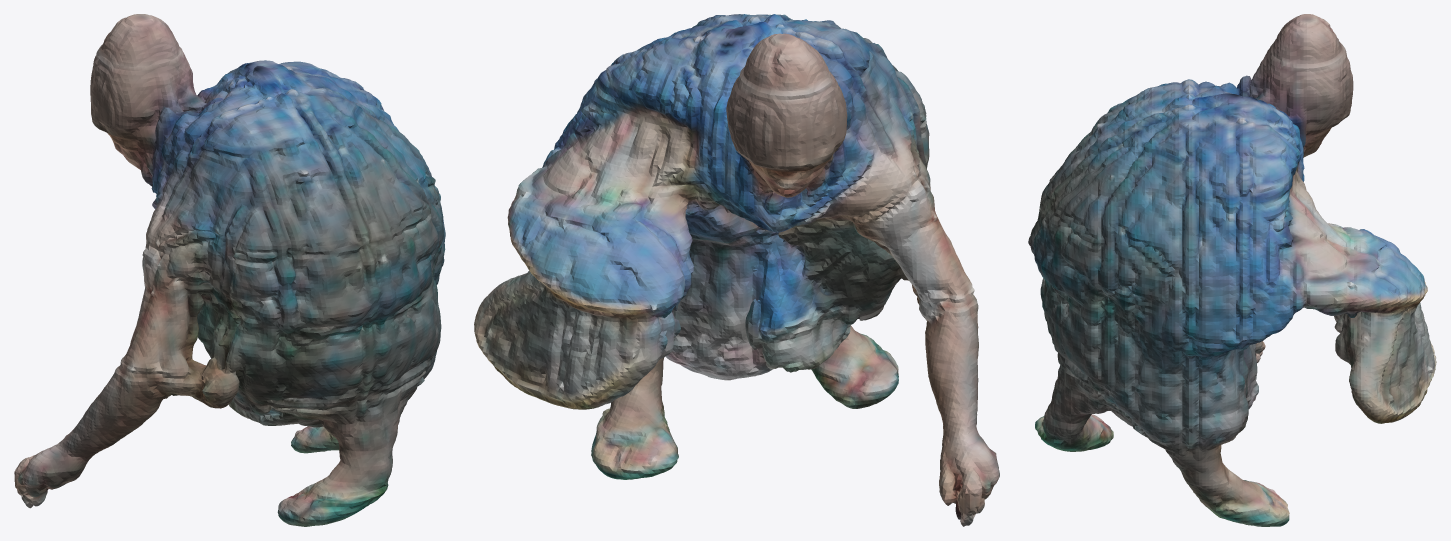
The model's file is ntb.glb.
3 renders of one model, left to right at view 1: azimuth 30°, elevation 25°; view 2: azimuth 150°, elevation 25°; view 3: azimuth 270°, elevation 25°, orthographic. The views are drawn at different scales.
Visible parts, largest first — view 1: world; view 2: world; view 3: world.
Part boxes in pixels (x1,y1,x2,y2): world: [14, 14, 445, 526]; world: [474, 14, 999, 526]; world: [1028, 14, 1436, 526].
Size of the model in its own units: 0.8913 by 0.9549 by 0.8267.
